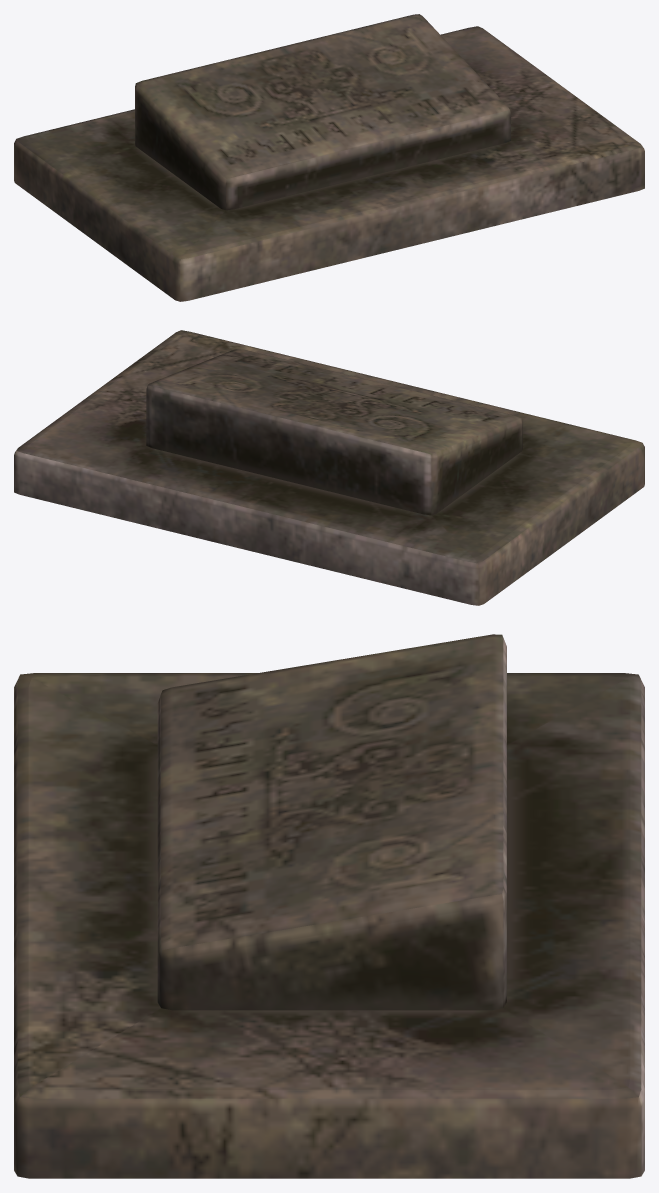
Rendered from SM_tombstone_14.fbx.
The picture shows the model from 3 angles, top to bottom: view 1: azimuth 30°, elevation 25°; view 2: azimuth 150°, elevation 25°; view 3: azimuth 270°, elevation 25°; orthographic projection. The views are drawn at different scales.
Visible parts, largest first — view 1: SM_tombstone_014; view 2: SM_tombstone_014; view 3: SM_tombstone_014.
Boxes of the visible parts, box(x1,y1,x2,y2) form: SM_tombstone_014: box(14, 14, 644, 301); SM_tombstone_014: box(14, 330, 644, 605); SM_tombstone_014: box(14, 634, 644, 1178).
Bounding box in the file's own units: 82.72 × 17.64 × 51.35.
